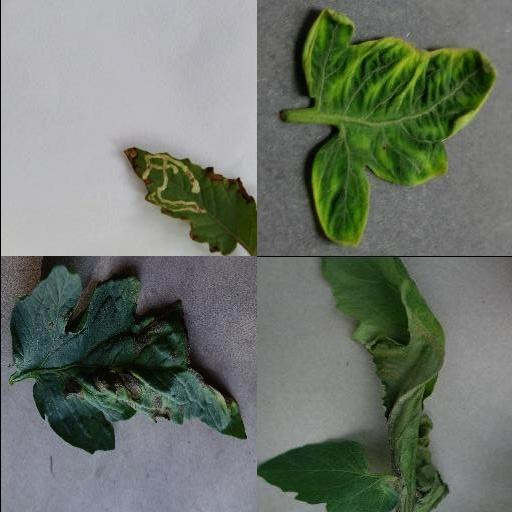Early Blight: (7, 264, 245, 455)
Healthy: (256, 436, 397, 512)
Late Blight: (319, 256, 447, 512)
Leaf Miner: (121, 146, 256, 256)
Yellow Leaf Curl Virus: (300, 8, 496, 248)
